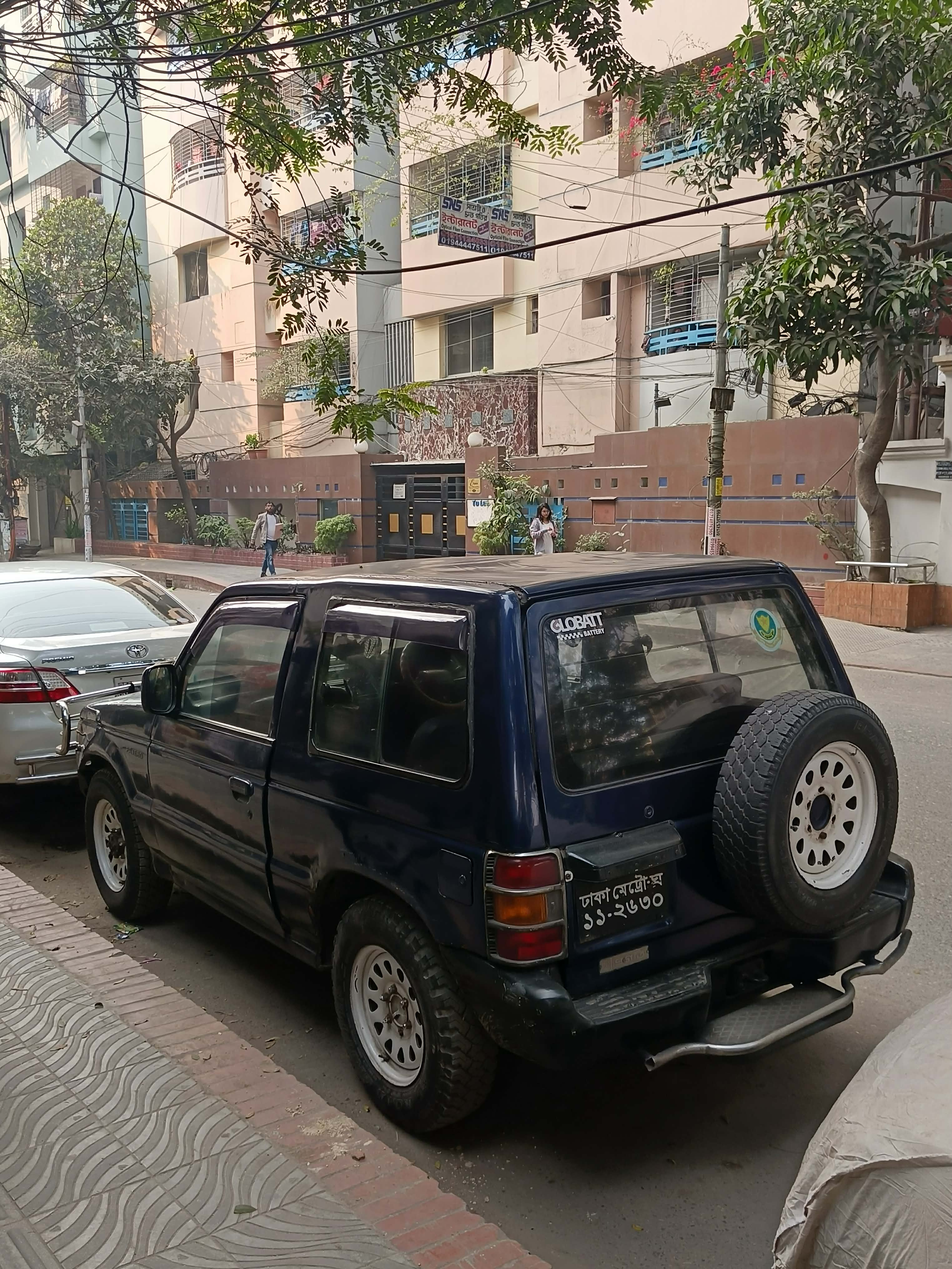private car: (75, 510, 905, 1137), (6, 472, 197, 825)
